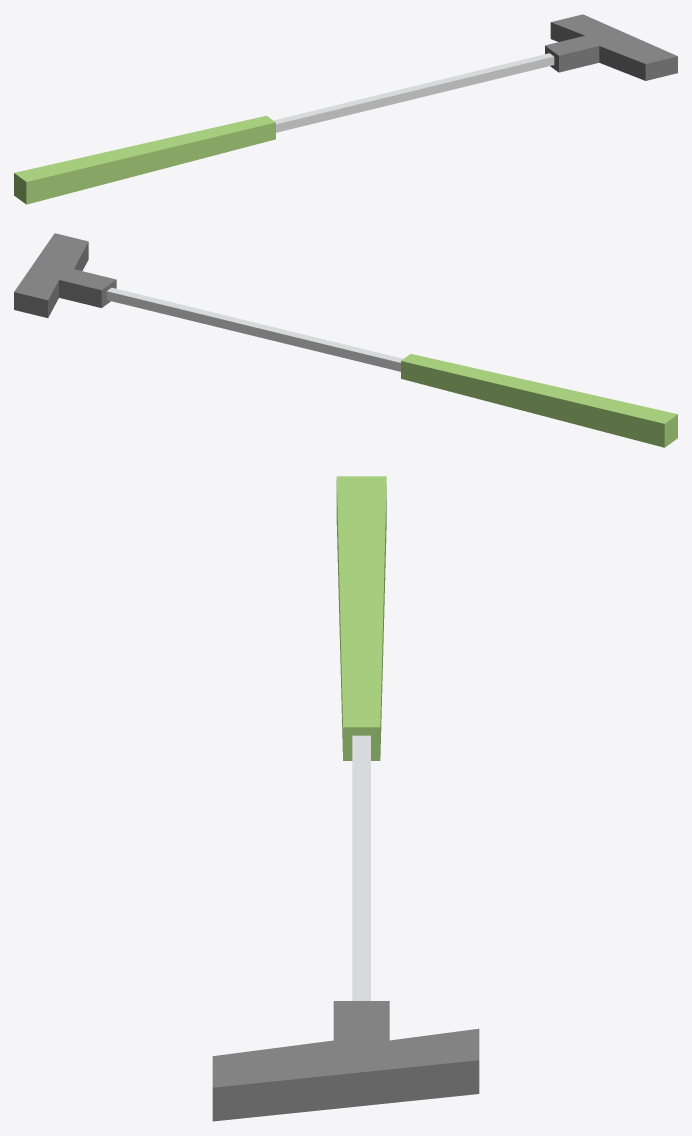
Rendered from Club_green_01.glb.
The picture shows the model from 3 angles, top to bottom: view 1: azimuth 30°, elevation 25°; view 2: azimuth 150°, elevation 25°; view 3: azimuth 270°, elevation 25°; orthographic projection. The views are drawn at different scales.
Visible parts, largest first — view 1: Mesh1 Club_green Model; view 2: Mesh1 Club_green Model; view 3: Mesh1 Club_green Model.
Part boxes in pixels (x1,y1,x2,y2): Mesh1 Club_green Model: [14, 14, 677, 204]; Mesh1 Club_green Model: [14, 233, 677, 447]; Mesh1 Club_green Model: [212, 476, 479, 1121].
Size of the model in its own units: 2.75 by 0.0959 by 0.5124.
